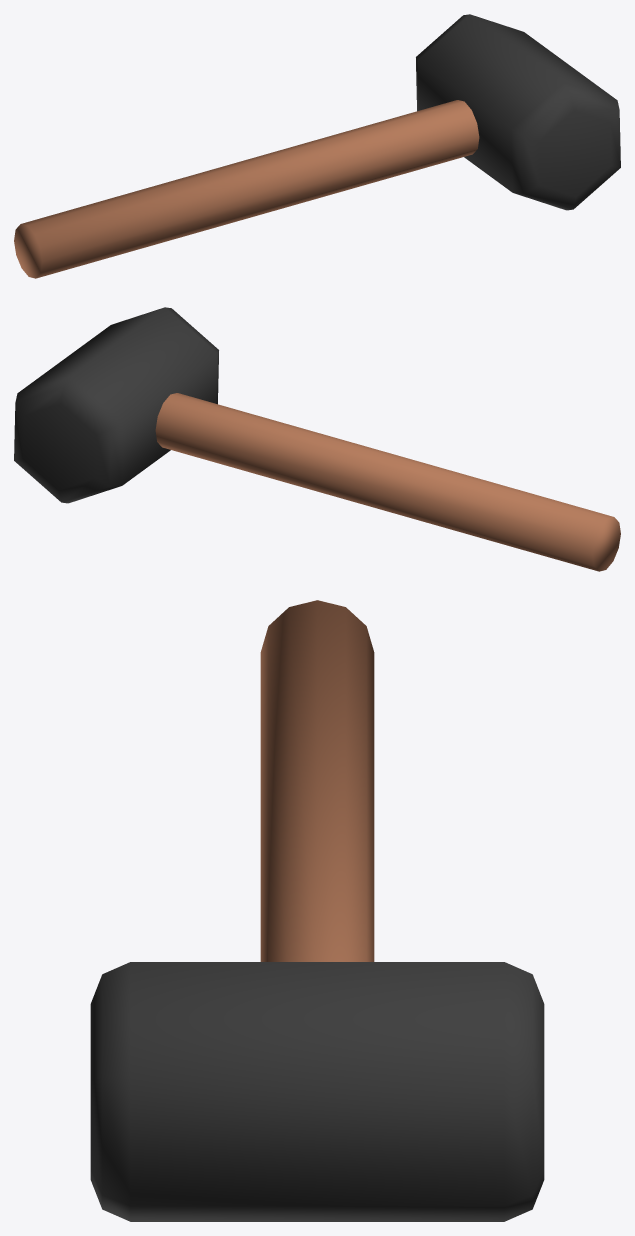
The model's file is Hammer.gltf.
3 views of the same model, one above another, from view 1: azimuth 30°, elevation 25°; view 2: azimuth 150°, elevation 25°; view 3: azimuth 270°, elevation 25° (orthographic). The views are drawn at different scales.
Visible parts, largest first — view 1: Mesh1_Group1_Component_1_1_Model.001; view 2: Mesh1_Group1_Component_1_1_Model.001; view 3: Mesh1_Group1_Component_1_1_Model.001.
Boxes of the visible parts, x1,y1,x2,y2 form: Mesh1_Group1_Component_1_1_Model.001: (14,14,620,278); Mesh1_Group1_Component_1_1_Model.001: (14,307,620,571); Mesh1_Group1_Component_1_1_Model.001: (90,600,544,1221).
Bounding box in the file's own units: 4.74 × 1.07 × 1.71.
Materials: 1 (1 with a texture image).
